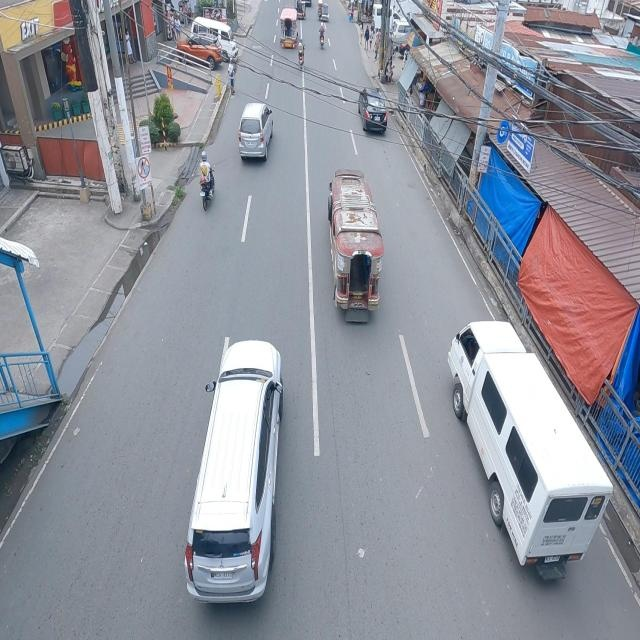Motorcycle: (198, 153, 216, 213)
Van: (446, 320, 614, 576)
